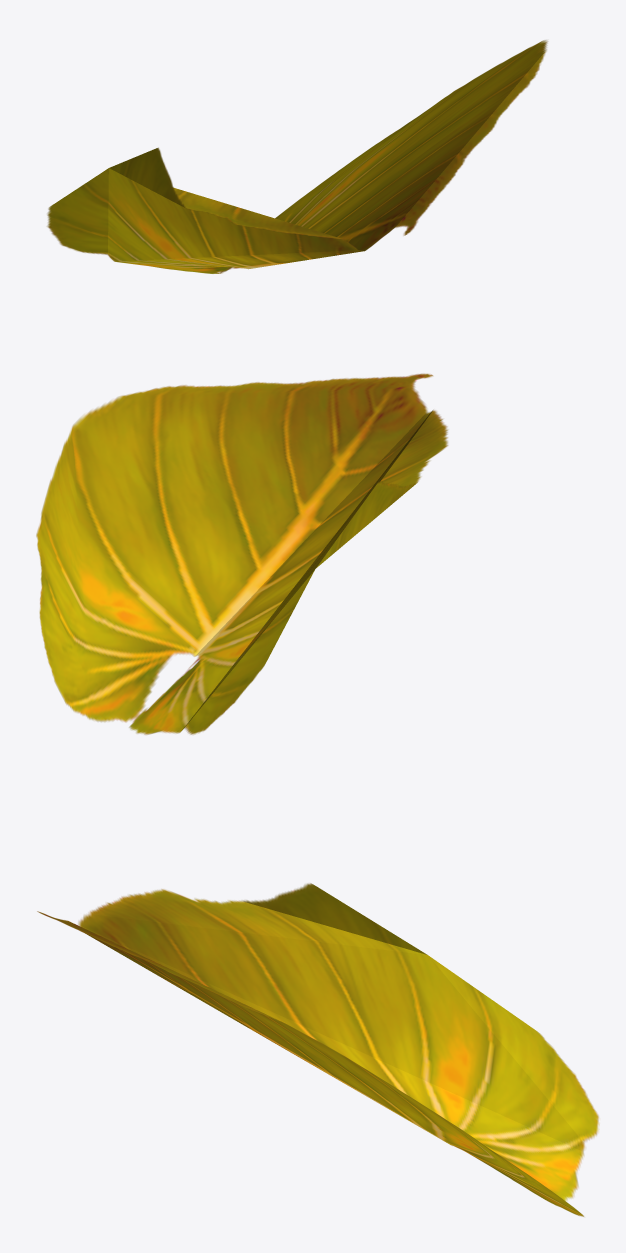
The model's file is BSPlant_2_Leaf_1.gltf.
3 renders of one model, top to bottom at view 1: azimuth 30°, elevation 25°; view 2: azimuth 150°, elevation 25°; view 3: azimuth 270°, elevation 25°, orthographic. The views are drawn at different scales.
Parts seen in each view (by area): view 1: BSPlant_2_Leaf_1; view 2: BSPlant_2_Leaf_1; view 3: BSPlant_2_Leaf_1.
Part boxes in pixels (<box>): BSPlant_2_Leaf_1: <box>47,40,547,273</box>; BSPlant_2_Leaf_1: <box>36,373,448,734</box>; BSPlant_2_Leaf_1: <box>37,883,599,1216</box>.
Bounding box in the file's own units: 2.52 × 1.69 × 2.64.
Materials: 1 (1 with a texture image).
